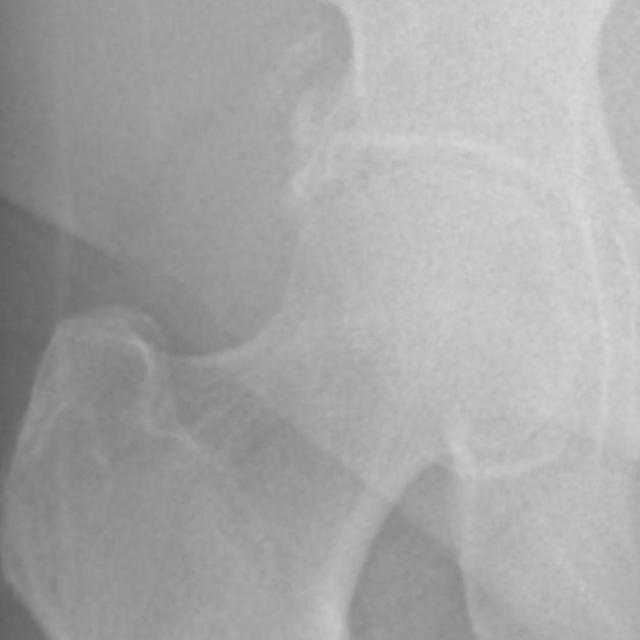Fitted_femural_head: (313, 168, 432, 313)
